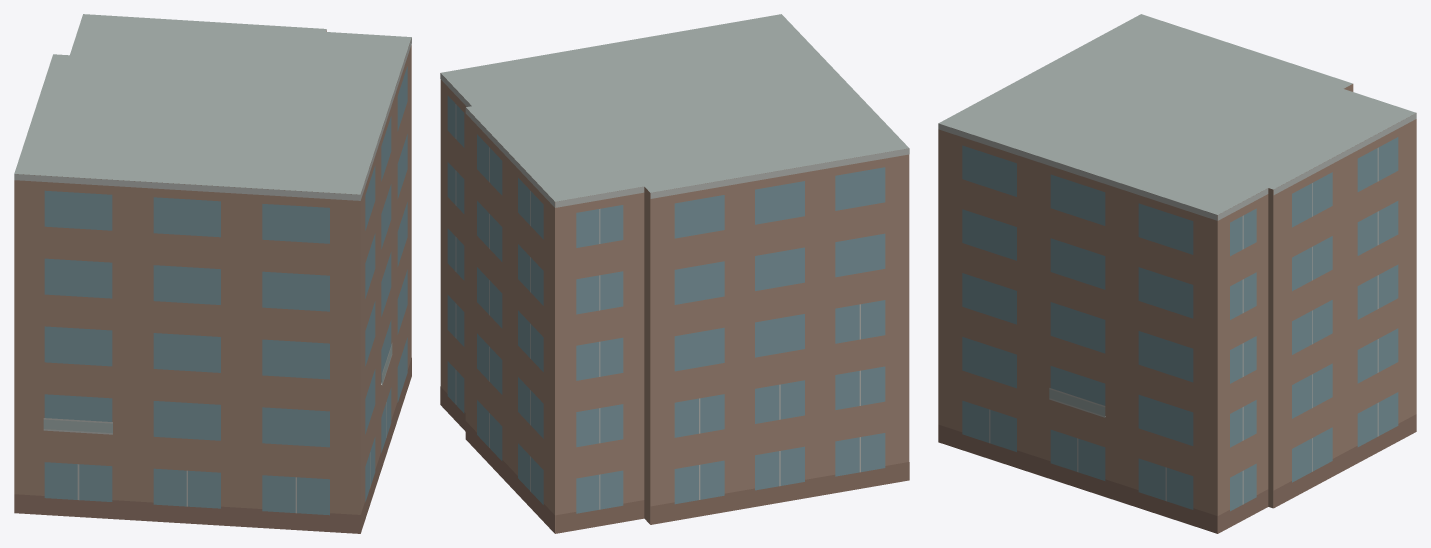
File: survey-upis-32767483.glb
3 views of the same model, side by side, from view 1: azimuth 30°, elevation 25°; view 2: azimuth 150°, elevation 25°; view 3: azimuth 270°, elevation 25° (orthographic). The views are drawn at different scales.
Visible parts, largest first — view 1: survey-upis-32767483.tmp; view 2: survey-upis-32767483.tmp; view 3: survey-upis-32767483.tmp.
Part boxes in pixels (box(x1,y1,x2,y2)): survey-upis-32767483.tmp: box(14, 14, 411, 533); survey-upis-32767483.tmp: box(440, 14, 909, 533); survey-upis-32767483.tmp: box(938, 14, 1416, 533).
Size of the model in its own units: 17.79 by 13.15 by 17.88.
